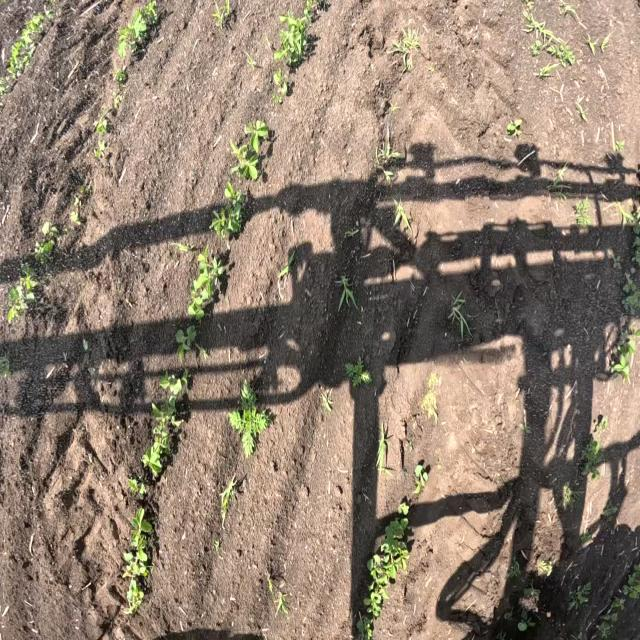plants: (118, 506, 156, 612), (227, 383, 275, 463), (186, 246, 227, 317), (116, 3, 160, 59), (273, 14, 311, 73), (138, 420, 174, 471), (340, 350, 378, 397), (373, 133, 407, 185), (215, 469, 242, 534), (262, 567, 294, 619), (208, 205, 246, 245), (380, 521, 412, 568), (421, 368, 445, 428), (332, 267, 362, 314), (228, 141, 261, 183), (443, 291, 471, 338), (389, 195, 419, 238), (389, 31, 421, 71), (30, 224, 60, 262), (609, 338, 636, 380), (170, 324, 198, 364), (574, 439, 602, 478), (408, 454, 433, 497), (543, 39, 576, 71), (366, 553, 397, 587), (314, 376, 338, 419), (374, 419, 393, 473), (156, 369, 192, 395), (521, 6, 550, 38), (546, 160, 568, 202), (573, 192, 594, 236), (566, 580, 593, 614), (6, 44, 30, 82), (271, 66, 293, 105), (20, 12, 49, 39), (148, 396, 178, 422), (275, 253, 299, 285), (5, 288, 25, 326), (592, 612, 619, 640), (622, 559, 640, 600), (244, 119, 267, 151), (502, 110, 524, 142), (352, 613, 377, 640), (619, 281, 640, 313), (240, 43, 260, 74), (13, 264, 32, 296), (212, 0, 232, 29), (363, 586, 384, 613), (127, 475, 149, 500), (560, 485, 580, 512), (590, 407, 609, 435), (532, 555, 554, 579), (573, 93, 593, 119), (396, 494, 415, 520), (341, 223, 363, 245), (223, 183, 246, 203), (614, 202, 629, 232), (610, 134, 627, 160), (599, 501, 618, 524), (68, 200, 83, 228), (111, 66, 130, 88), (506, 555, 522, 581), (516, 610, 534, 633), (209, 535, 226, 556), (522, 585, 542, 602), (94, 113, 109, 135), (622, 322, 640, 340), (606, 594, 624, 612), (534, 63, 551, 82), (576, 530, 592, 550), (629, 239, 640, 266), (110, 91, 126, 109), (387, 99, 402, 118), (630, 210, 640, 238), (526, 41, 540, 60), (583, 35, 597, 54), (94, 139, 107, 159), (300, 1, 317, 16), (600, 37, 612, 58), (501, 608, 514, 623), (426, 58, 436, 77), (495, 627, 509, 640)
